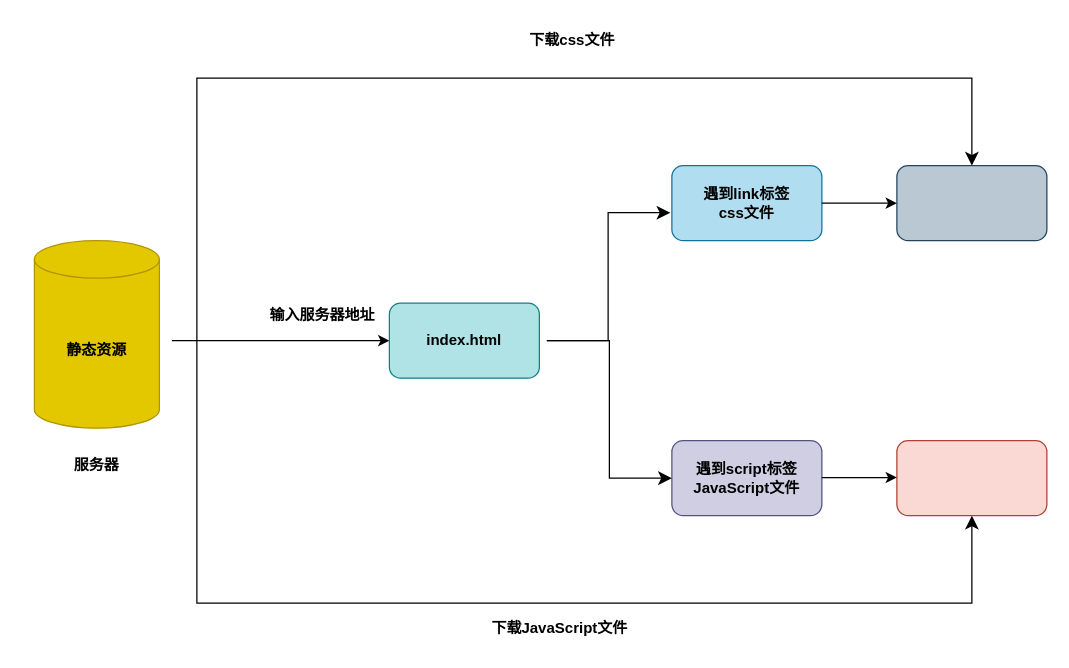
The diagram is 1069 pixels wide and 668 high, and some of its shapes have lost their labels. Each missing label, with the centre of its shape:
"xxx.css" goes at (971,202).
"xxx.js" goes at (971,477).
